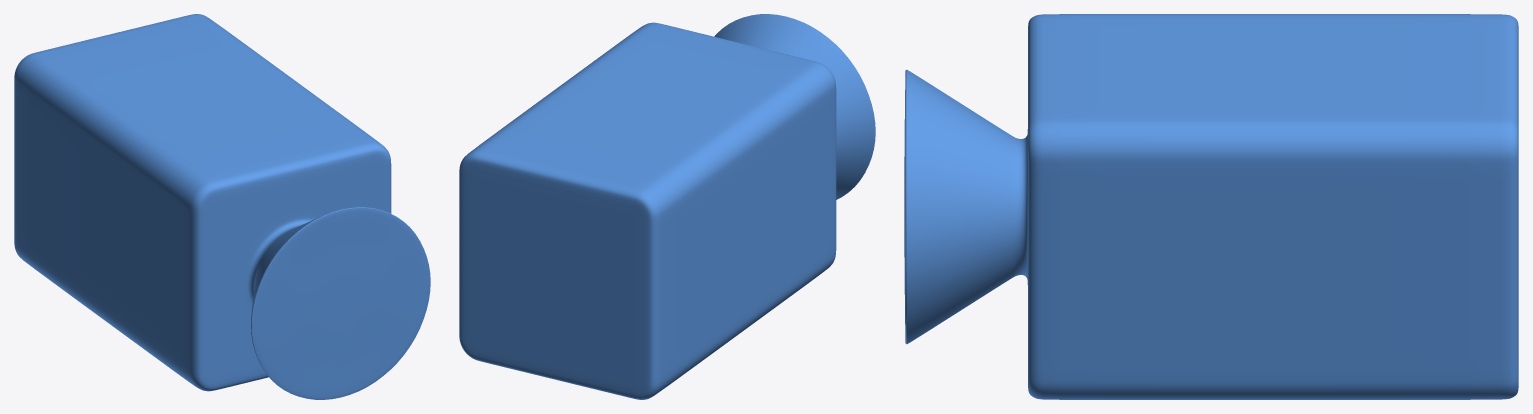
File: Camera.glb
3 renders of one model, left to right at view 1: azimuth 30°, elevation 25°; view 2: azimuth 150°, elevation 25°; view 3: azimuth 270°, elevation 25°, orthographic. The views are drawn at different scales.
Parts seen in each view (by area): view 1: Cube; view 2: Cube; view 3: Cube.
Boxes of the visible parts, left/top/right/bottom form: Cube: left=14, top=14, right=430, bottom=399; Cube: left=459, top=14, right=875, bottom=399; Cube: left=904, top=14, right=1518, bottom=399.
Size of the model in its own units: 0.25 by 0.25 by 0.5008.
